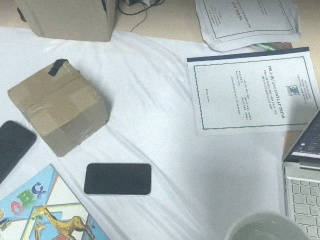book: (1, 160, 126, 240)
box: (7, 57, 110, 159), (16, 1, 118, 44)
cup: (224, 210, 310, 240)
phone: (82, 160, 153, 198), (1, 119, 37, 190)
